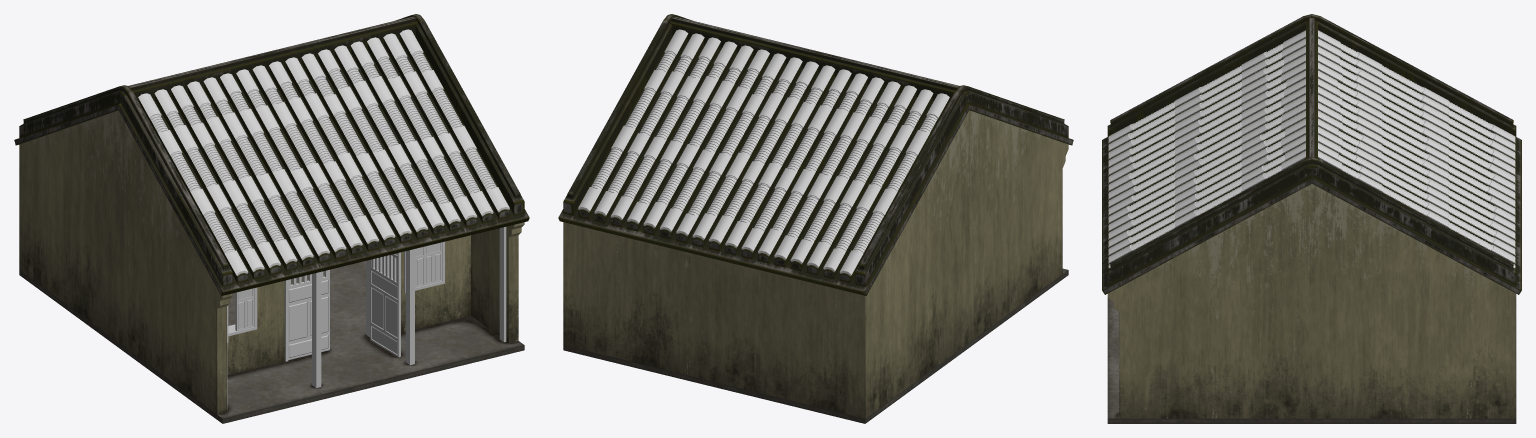
Rendered from uploads_files_2279663_HoiAnHouse_M2.fbx.
3 views of the same model, side by side, from view 1: azimuth 30°, elevation 25°; view 2: azimuth 150°, elevation 25°; view 3: azimuth 270°, elevation 25° (orthographic).
Visible parts, largest first — view 1: HoiAn_M2_HoiAnHouseFinal_002; view 2: HoiAn_M2_HoiAnHouseFinal_002; view 3: HoiAn_M2_HoiAnHouseFinal_002.
Boxes of the visible parts, <box> form: HoiAn_M2_HoiAnHouseFinal_002: <box>14,14,529,423</box>; HoiAn_M2_HoiAnHouseFinal_002: <box>558,14,1073,423</box>; HoiAn_M2_HoiAnHouseFinal_002: <box>1102,14,1521,423</box>.
Bounding box in the file's own units: 6.1 × 7.19 × 4.97.
